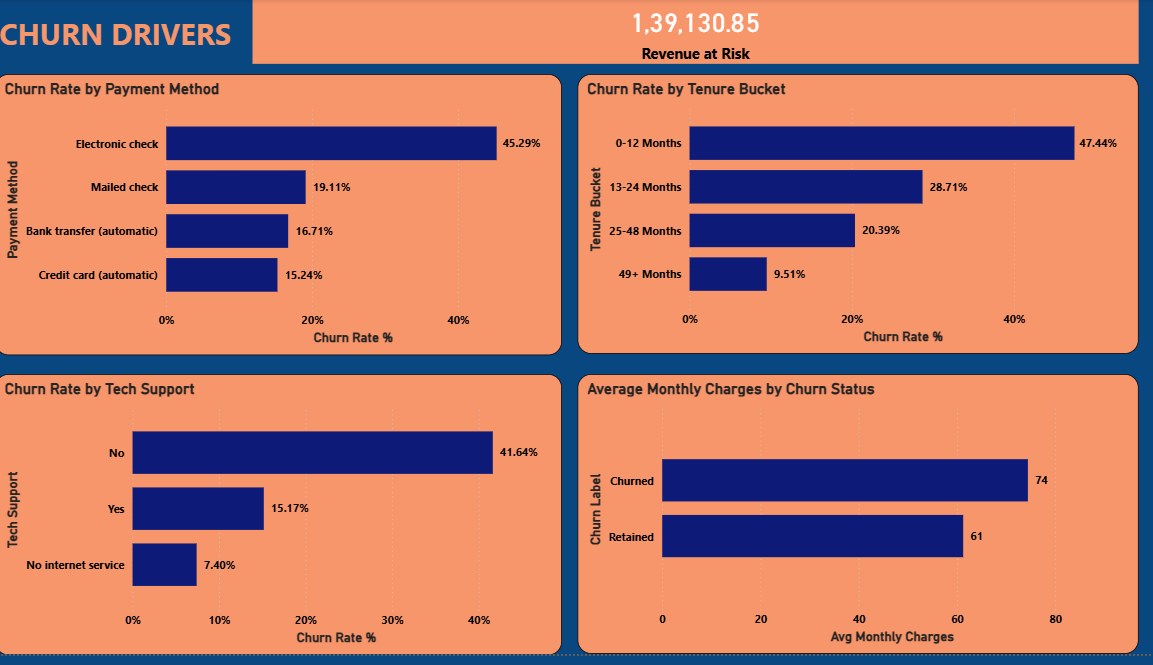

What the dashboard file says about the page in this screenshot:
{"tool":"powerbi","page":{"name":"Churn Drivers","canvas":[1280,720],"ordinal":1},"visuals":[{"type":"clusteredBarChart","title":"Churn Rate by Payment Method","fields":{"Category":["churn.Payment Method"],"Y":["churn.Churn Rate %"]},"box":[0,81.7,622.5,308.5],"z":0},{"type":"textbox","box":[0,11.3,283.1,60.6],"z":1000},{"type":"clusteredBarChart","title":"Churn Rate by Tenure Bucket","fields":{"Category":["churn.Tenure Bucket"],"Y":["churn.Churn Rate %"]},"box":[639.5,82.3,616.1,307.4],"z":2000},{"type":"card","fields":{"Values":["churn.Revenue at Risk"]},"box":[282.7,0,972.9,71.4],"z":3000},{"type":"clusteredBarChart","title":"Average Monthly Charges by Churn Status","fields":{"Category":["churn.Churn Label"],"Y":["churn.Avg Monthly Charges"]},"box":[639.5,411.7,616.1,307.4],"z":4000},{"type":"clusteredBarChart","title":"Churn Rate by Tech Support","fields":{"Category":["churn.Tech Support"],"Y":["churn.Churn Rate %"]},"box":[0,411.3,622.5,308.5],"z":5000}]}

Visuals, with their boxes in screenshot pixels (x1, y1, x2, y2), scaled from the page's 1280x720 canvas onto the 1153x665 screenshot:
"Churn Rate by Payment Method" clusteredBarChart: (0,75,561,360)
textbox: (0,10,255,66)
"Churn Rate by Tenure Bucket" clusteredBarChart: (576,76,1131,360)
card - churn.Revenue at Risk: (255,0,1131,66)
"Average Monthly Charges by Churn Status" clusteredBarChart: (576,380,1131,664)
"Churn Rate by Tech Support" clusteredBarChart: (0,380,561,664)
